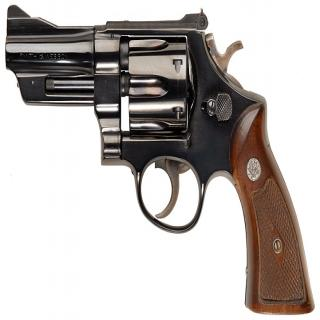gun: (4, 3, 315, 317)
